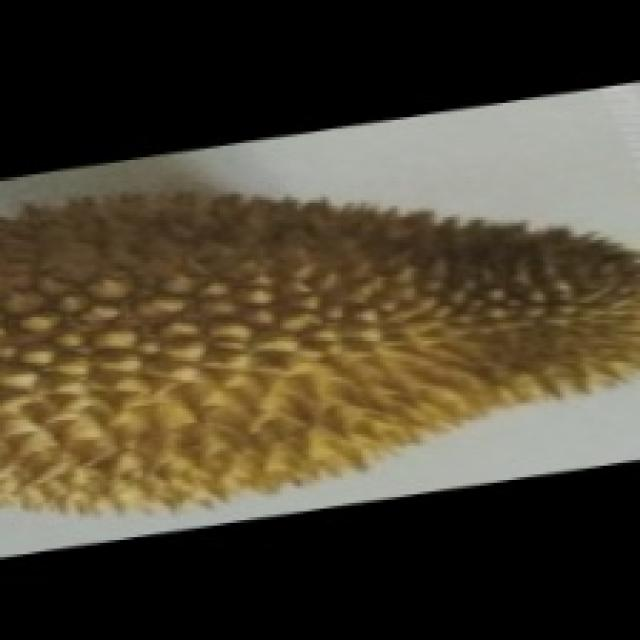d2: (3, 207, 633, 505)
